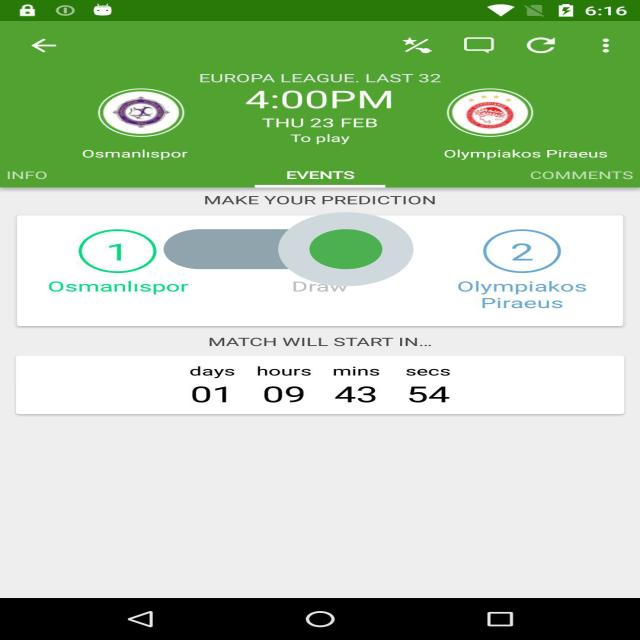social proof: (164, 180, 414, 318)
